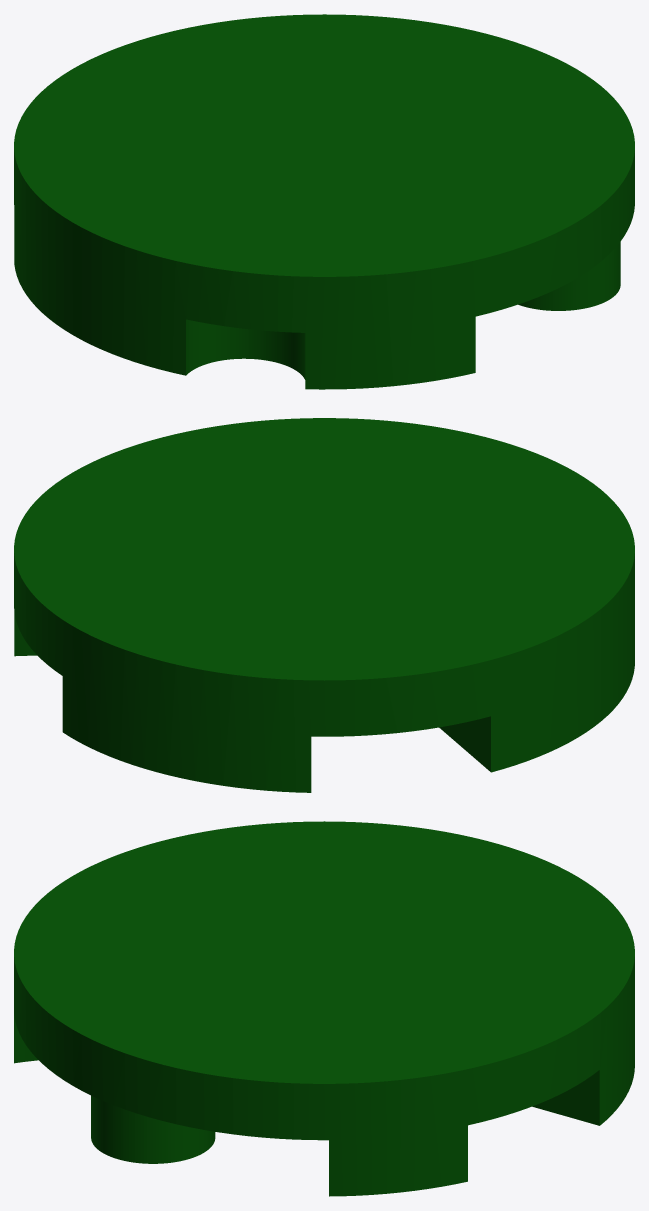
File: objeto_para_scan-cuerpo.dae
3 renders of one model, top to bottom at view 1: azimuth 30°, elevation 25°; view 2: azimuth 150°, elevation 25°; view 3: azimuth 270°, elevation 25°, orthographic.
Visible parts, largest first — view 1: node0; view 2: node0; view 3: node0.
Boxes of the visible parts, x1,y1,x2,y2 form: node0: (14, 14, 634, 389); node0: (14, 418, 634, 792); node0: (14, 821, 634, 1196).
Bounding box in the file's own units: 0.1 × 0.1 × 0.02.
